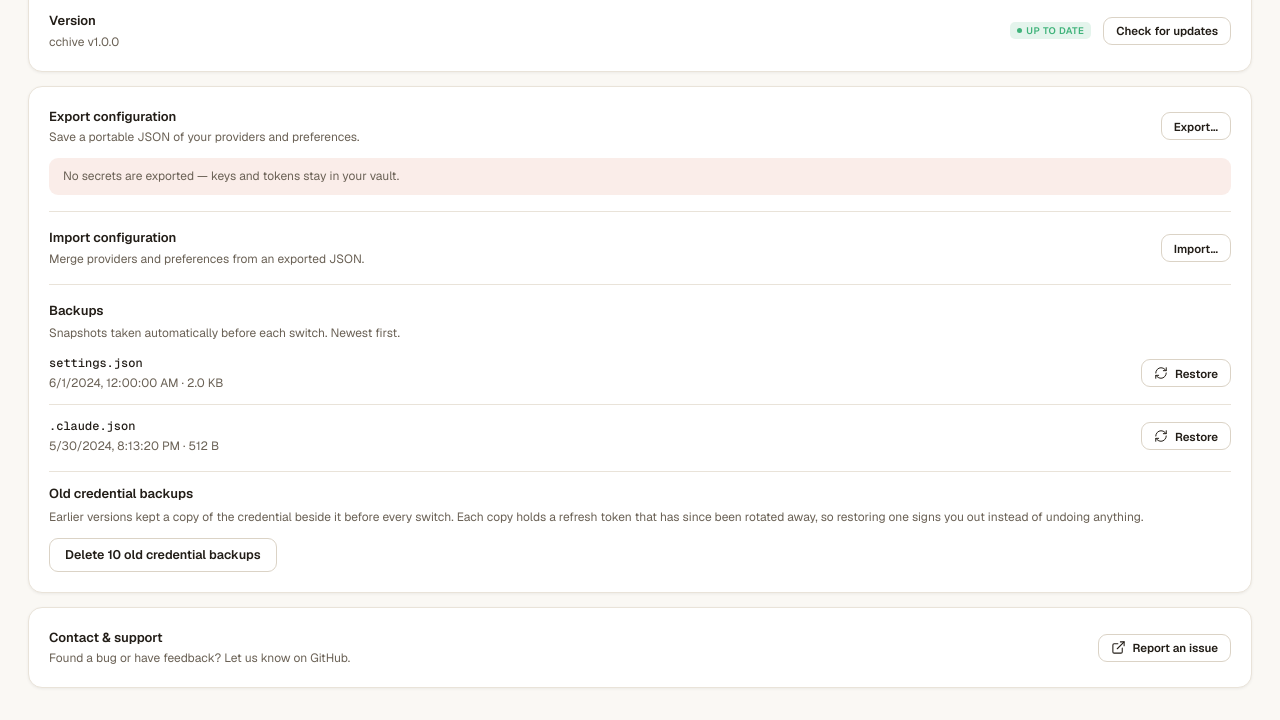
Test case: legacy credential backups › offers the deletion and performs it once confirmed
This screenshot has width=1280, height=720.
(page scrolled)
Click the button "Delete 10 old credential backups".
click(163, 555)  # box [49,538,277,572]
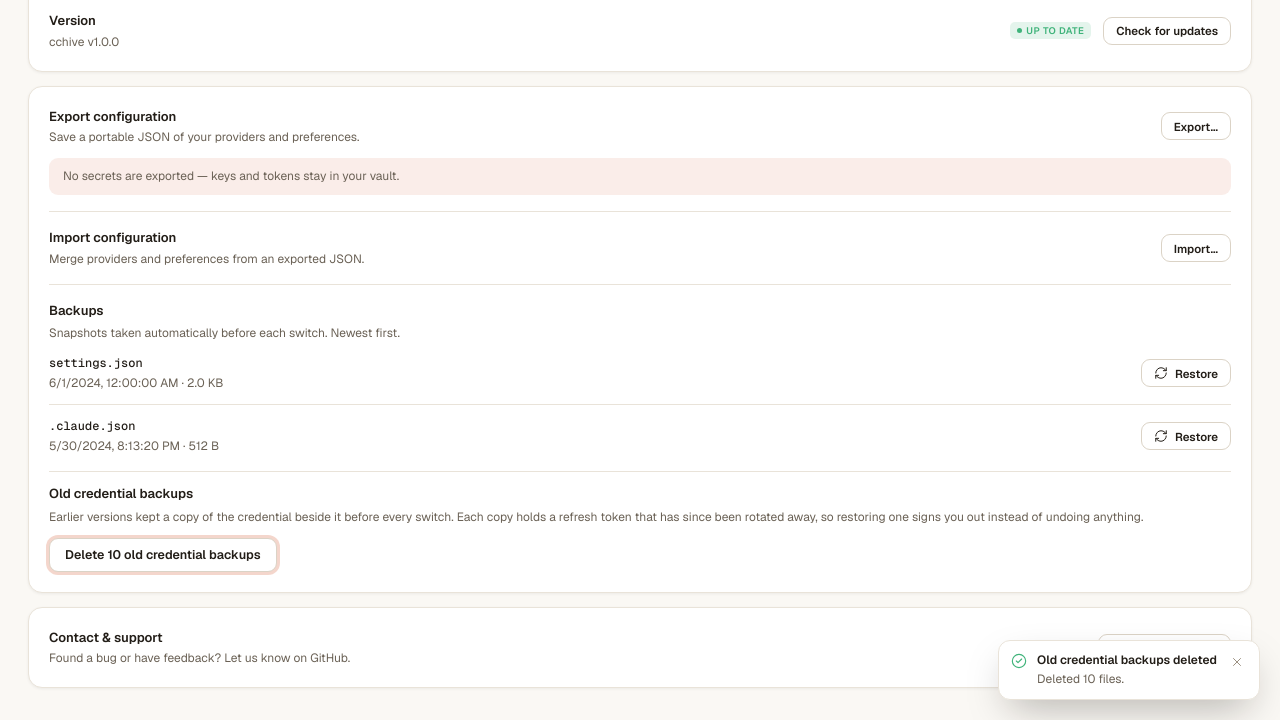
Expected: the text "Old credential backups deleted" is shown, [1037,652,1217,669]
